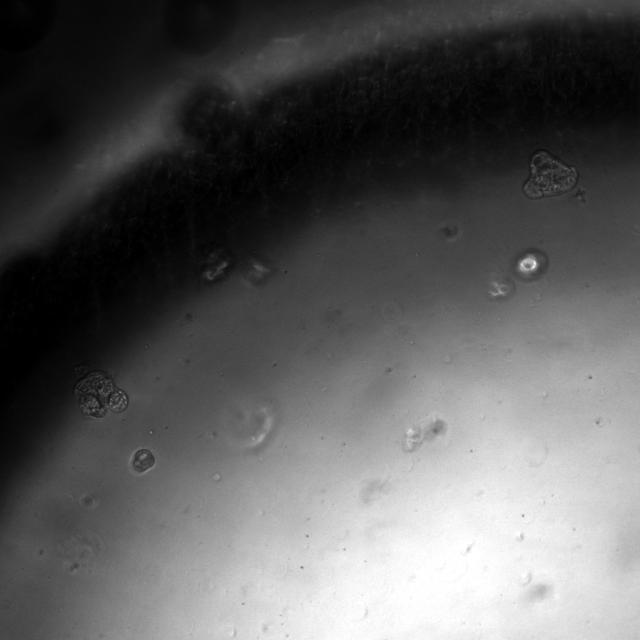organoid: (522, 150, 578, 199), (74, 370, 128, 418), (402, 418, 448, 452), (514, 248, 549, 281), (201, 247, 233, 283), (241, 254, 273, 286), (485, 272, 514, 301), (129, 448, 156, 475), (439, 220, 461, 241)
